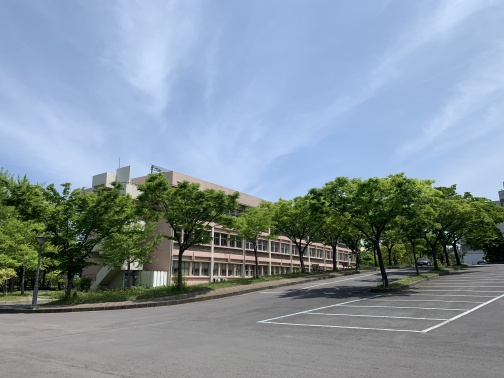College Of Education: (74, 169, 367, 308)
